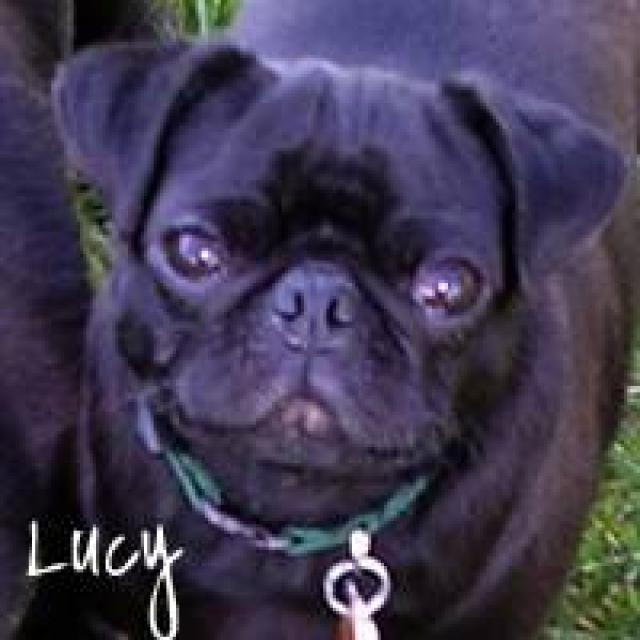sad: (42, 29, 626, 557)
